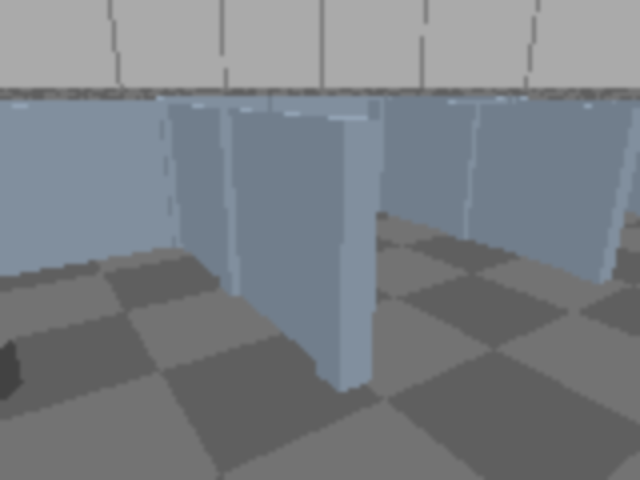obstacle: (0, 335, 23, 468)
